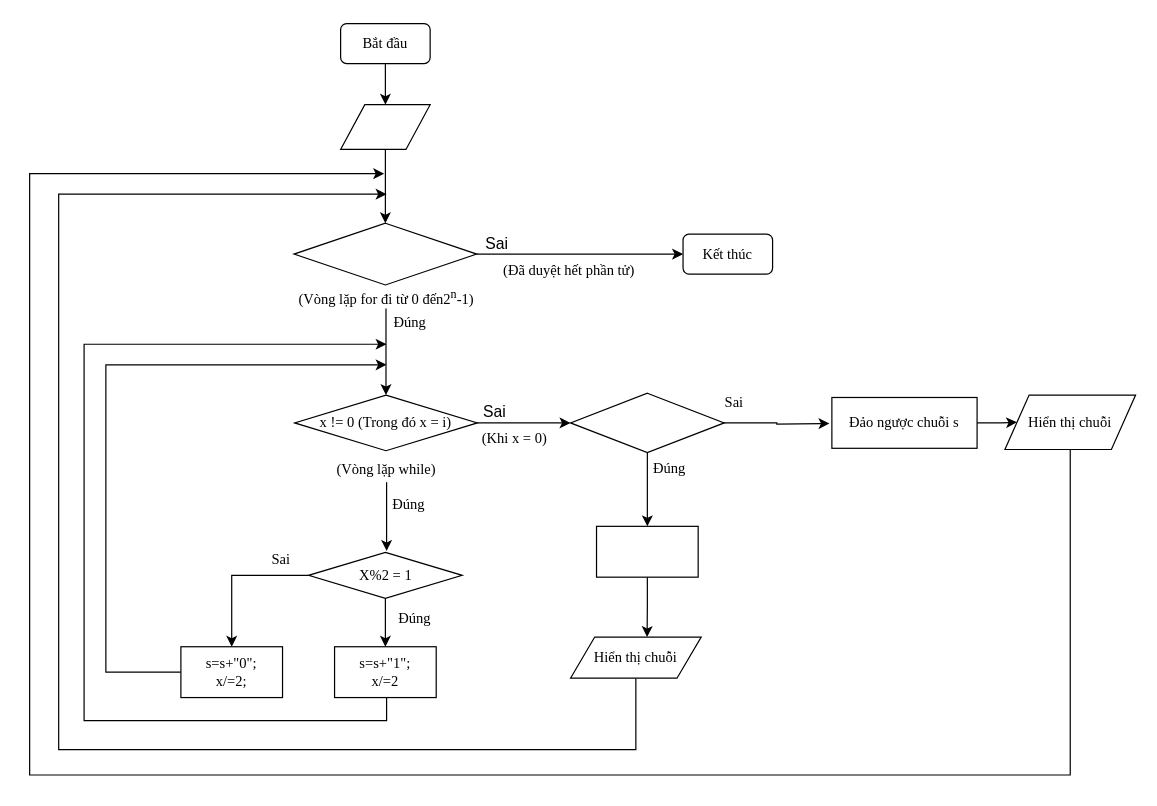
The diagram is 1157 pixels wide and 806 high, and some of its shapes have lost their labels. Here are the shapes that lost their labels. From the top down, the centre of each, then its label:
pixel 384 126: Nhập n
pixel 385 253: i <= 2 n -1
pixel 646 422: S = "" (Rỗng)
pixel 646 551: Chuỗi s = "0"
